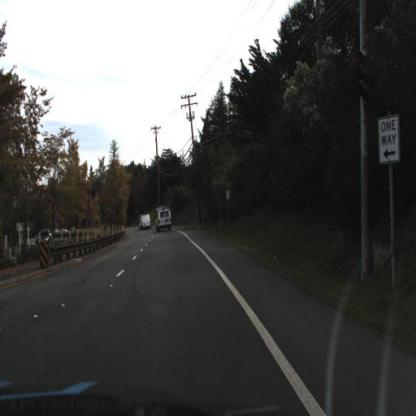car: (151, 201, 172, 229), (31, 227, 54, 250), (33, 227, 56, 250), (138, 212, 153, 233), (53, 225, 69, 236)
